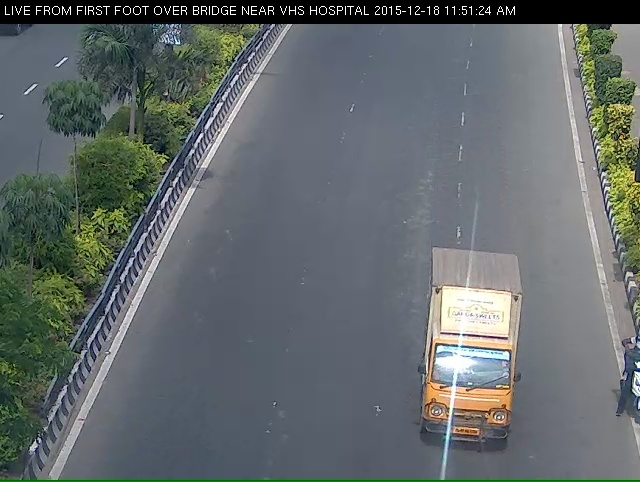Auto: (404, 258, 534, 478)
